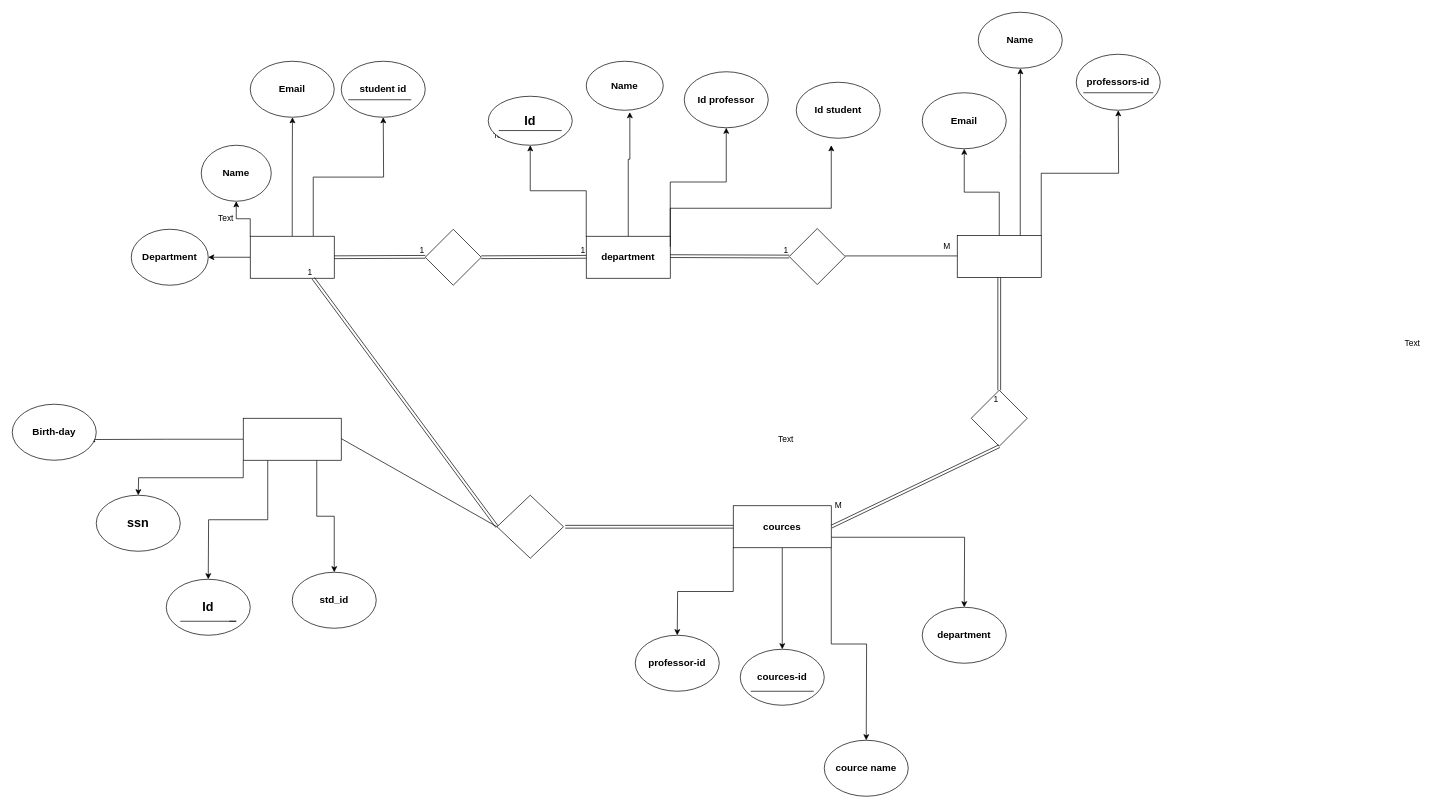
Some shapes in this 1442 by 809 pixel diagram are drawn without their labels. Here are the shapes that lost their labels. From the top down, the centre of each, then its label:
the point at 292,257: students
the point at 453,257: Belongs to
the point at 817,256: Belogs to
the point at 999,256: Professors
the point at 999,418: Gives
the point at 292,439: enrollment
the point at 530,526: Has
